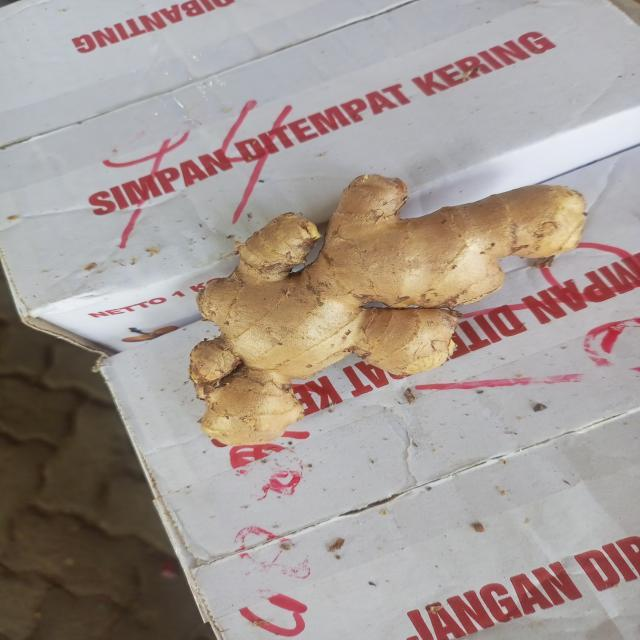ginger: (199, 182, 581, 444)
